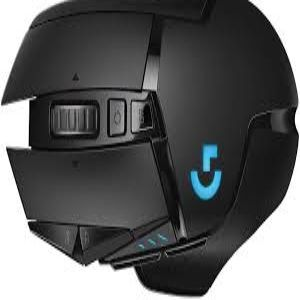mouse: (1, 1, 300, 299)
